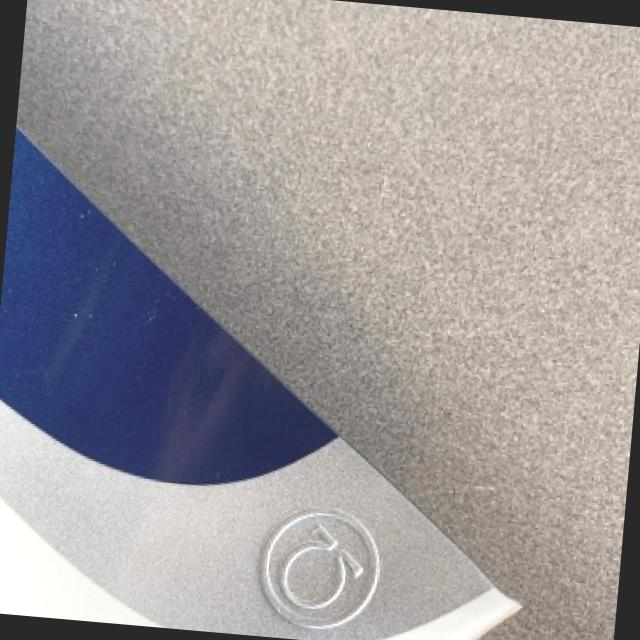healthy: (18, 0, 581, 640), (0, 127, 520, 640)
